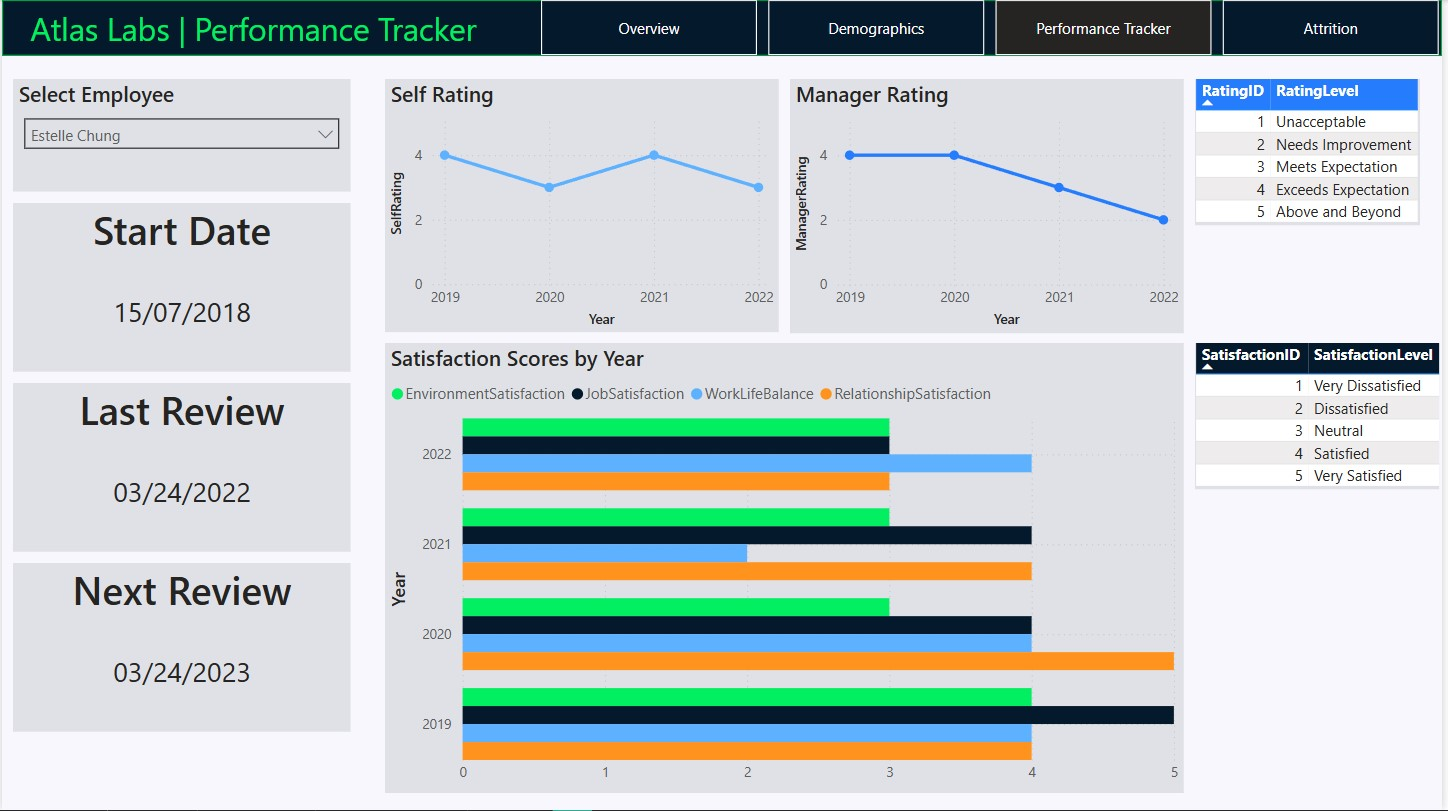

The page's visual inventory and layout, read from the dashboard file:
{"tool":"powerbi","page":{"name":"Performance Tracker","canvas":[1280,720],"ordinal":2},"visuals":[{"type":"slicer","title":"Select Employee","fields":{"Values":["DimEmployee.FullName"]},"box":[10,70,300.5,100],"z":0},{"type":"card","title":"Start Date","fields":{"Values":["Min(DimEmployee.HireDate)"]},"box":[10,180,300.5,150.2],"z":1000},{"type":"card","title":"Last Review","fields":{"Values":["_Measures.LastReviewDate"]},"box":[10,340,300.5,150.2],"z":2000},{"type":"card","title":"Next Review","fields":{"Values":["_Measures.NextReviewDate"]},"box":[10,500,300.5,150.2],"z":3000},{"type":"lineChart","title":"Self Rating","fields":{"Y":["_Measures.SelfRating"],"Category":["DimDate.Date.Variation.Date Hierarchy.Year1"]},"box":[340,70,350,225.4],"z":4000},{"type":"lineChart","title":"Manager Rating","fields":{"Y":["_Measures.ManagerRating"],"Category":["DimDate.Date.Variation.Date Hierarchy.Year"]},"box":[700,70,350,225.7],"z":5000},{"type":"clusteredBarChart","title":"Satisfaction Scores by Year","fields":{"Y":["_Measures.EnvironmentSatisfaction","_Measures.JobSatisfaction","_Measures.WorkLifeBalance","_Measures.RelationshipSatisfaction"],"Category":["DimDate.Date.Variation.Date Hierarchy.Year"]},"box":[340.4,304.9,710.2,400],"z":6000},{"type":"tableEx","fields":{"Values":["DimRatingLevel.RatingID","DimRatingLevel.RatingLevel"]},"box":[1060,70.2,200,130],"z":7000},{"type":"tableEx","fields":{"Values":["DimSatisfiedLevel.SatisfactionID","DimSatisfiedLevel.SatisfactionLevel"]},"box":[1060.4,304.9,217,130],"z":8000},{"type":"shape","box":[0,0,1280,49.6],"z":9000},{"type":"pageNavigator","box":[479.5,0,800.5,49.6],"z":10000}]}

Visuals, with their boxes in screenshot pixels (x1, y1, x2, y2), scaled from the page's 1280x720 canvas onto the 1448x811 screenshot:
"Select Employee" slicer: (left=11, top=79, right=351, bottom=191)
"Start Date" card: (left=11, top=203, right=351, bottom=372)
"Last Review" card: (left=11, top=383, right=351, bottom=552)
"Next Review" card: (left=11, top=563, right=351, bottom=732)
"Self Rating" lineChart: (left=385, top=79, right=781, bottom=333)
"Manager Rating" lineChart: (left=792, top=79, right=1188, bottom=333)
"Satisfaction Scores by Year" clusteredBarChart: (left=385, top=343, right=1188, bottom=794)
tableEx - DimRatingLevel.RatingID x DimRatingLevel.RatingLevel: (left=1199, top=79, right=1425, bottom=226)
tableEx - DimSatisfiedLevel.SatisfactionID x DimSatisfiedLevel.SatisfactionLevel: (left=1200, top=343, right=1445, bottom=490)
shape: (left=0, top=0, right=1447, bottom=56)
pageNavigator: (left=542, top=0, right=1447, bottom=56)
